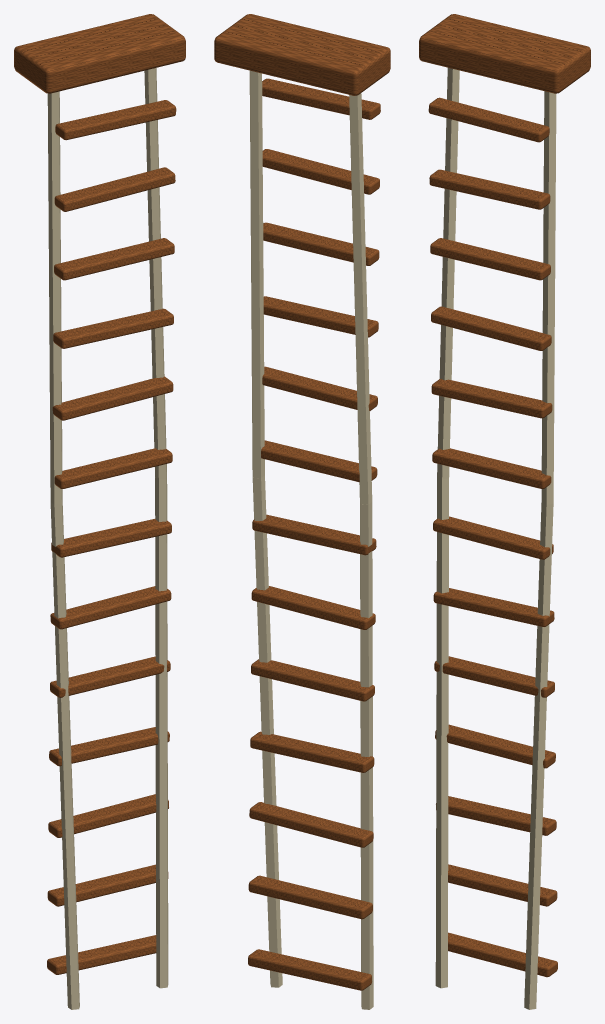
File: jungle-temple-and-stone-city-rope-ladder-5c0acbd0__36144.glb
The picture shows the model from 3 angles, left to right: view 1: azimuth 30°, elevation 25°; view 2: azimuth 150°, elevation 25°; view 3: azimuth 330°, elevation 25°; orthographic projection. The views are drawn at different scales.
Parts seen in each view (by area): view 1: rope-ladder; view 2: rope-ladder; view 3: rope-ladder.
Part boxes in pixels (x1=…): rope-ladder: x1=14, y1=14, x2=185, y2=1009; rope-ladder: x1=214, y1=14, x2=390, y2=1009; rope-ladder: x1=419, y1=14, x2=590, y2=1009.
Size of the model in its own units: 0.6999 by 4.48 by 0.3367.
Materials: 2 (1 with a texture image).
